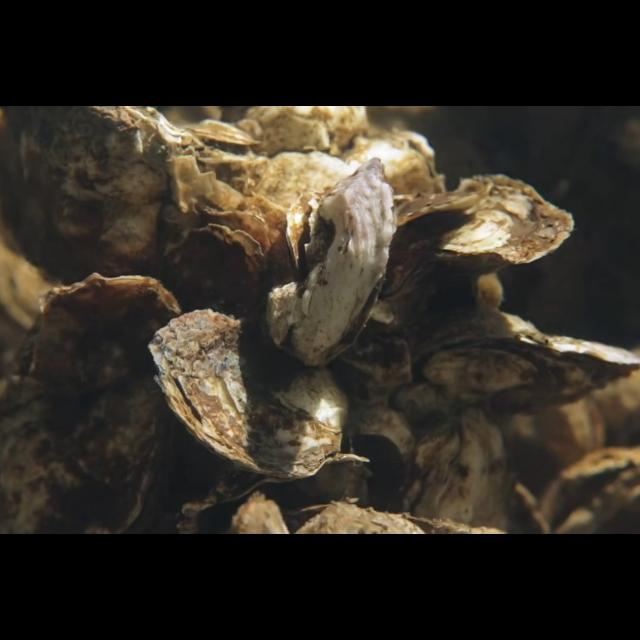Oyster-Closed: (0, 272, 184, 534), (148, 308, 352, 482), (264, 157, 398, 369), (410, 311, 640, 423), (382, 175, 576, 302), (392, 405, 516, 535)
Oyster-Indeterminate: (0, 106, 220, 288), (161, 222, 267, 326)
Oyster-Open: (196, 453, 370, 535), (536, 448, 640, 534)
